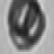correct: (7, 0, 46, 52)
